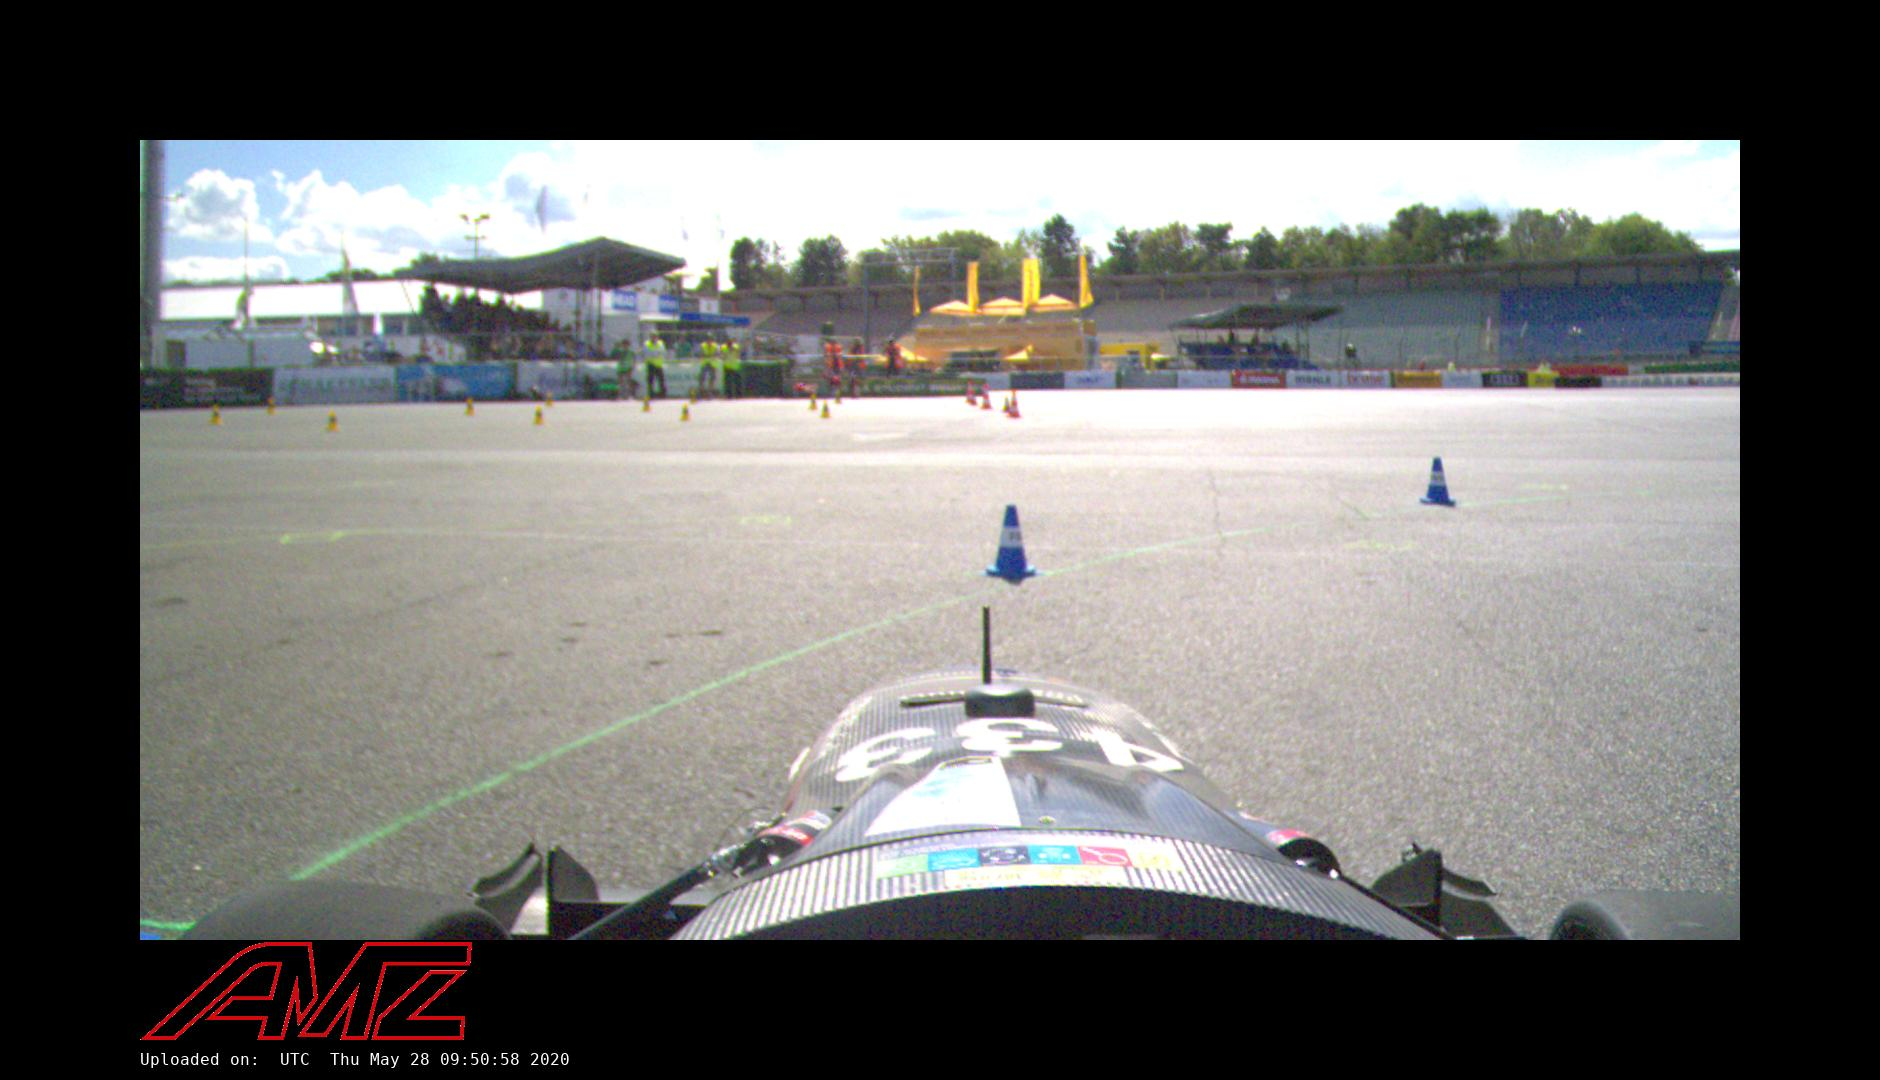blue_cone: (980, 504, 1046, 581), (1416, 457, 1459, 506)
large_orange_cone: (1006, 389, 1022, 419), (980, 384, 994, 409), (965, 381, 976, 403)
orange_cone: (1001, 397, 1010, 413), (970, 394, 978, 406)
yellow_cone: (325, 411, 340, 431), (532, 406, 547, 426), (208, 405, 222, 425), (464, 398, 477, 415), (819, 401, 832, 418), (679, 403, 691, 421), (641, 397, 653, 412), (266, 398, 277, 414), (808, 395, 818, 410), (834, 391, 842, 404)
